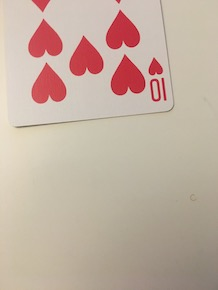TenOfHearts: (1, 1, 179, 127)
